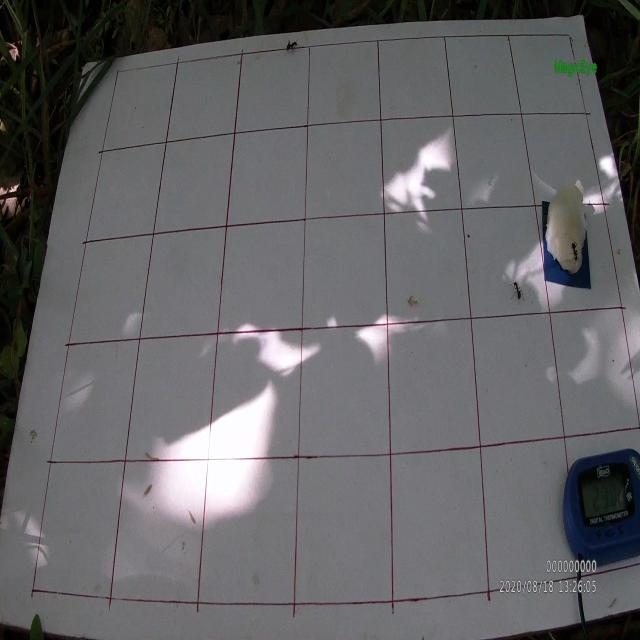Ant: (508, 280, 526, 306), (284, 38, 300, 57), (568, 238, 579, 263), (543, 211, 550, 231)
